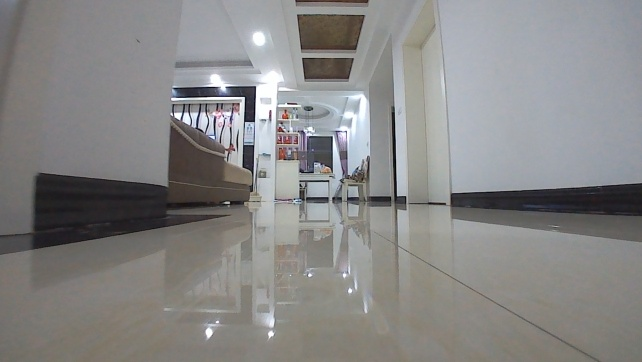sofa1: (167, 112, 254, 208)
